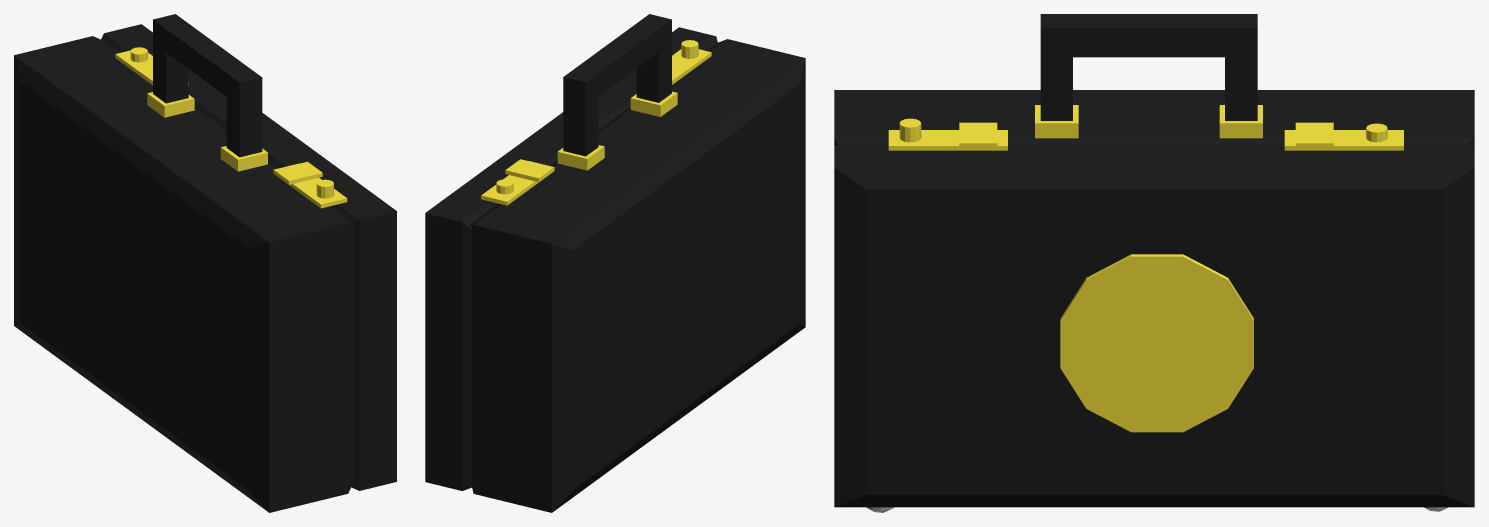
Rendered from Briefcase.glb.
The picture shows the model from 3 angles, left to right: view 1: azimuth 30°, elevation 25°; view 2: azimuth 150°, elevation 25°; view 3: azimuth 270°, elevation 25°; orthographic projection. The views are drawn at different scales.
Visible parts, largest first — view 1: Node; view 2: Node; view 3: Node.
Part boxes in pixels (x1,y1,x2,y2): Node: (14,14,396,512); Node: (425,14,805,512); Node: (834,14,1474,512).
Bounding box in the file's own units: 0.39 × 0.935 × 1.18.
